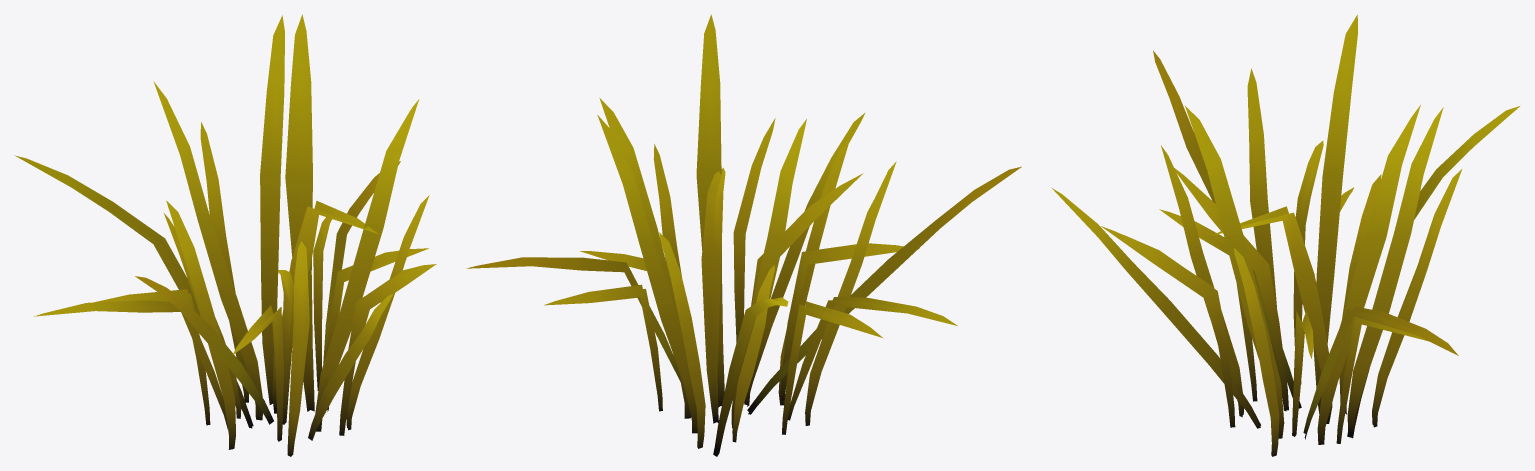
Rendered from herbe-fine-courte.glb.
3 renders of one model, left to right at view 1: azimuth 30°, elevation 25°; view 2: azimuth 150°, elevation 25°; view 3: azimuth 270°, elevation 25°, orthographic. The views are drawn at different scales.
Parts seen in each view (by area): view 1: Grass_Wispy_Short; view 2: Grass_Wispy_Short; view 3: Grass_Wispy_Short.
Part boxes in pixels (x1,y1,x2,y2): Grass_Wispy_Short: [15, 14, 436, 456]; Grass_Wispy_Short: [466, 14, 1021, 456]; Grass_Wispy_Short: [1052, 14, 1519, 456].
Bounding box in the file's own units: 1.32 × 1.07 × 1.21.
Materials: 1 (1 with a texture image).
